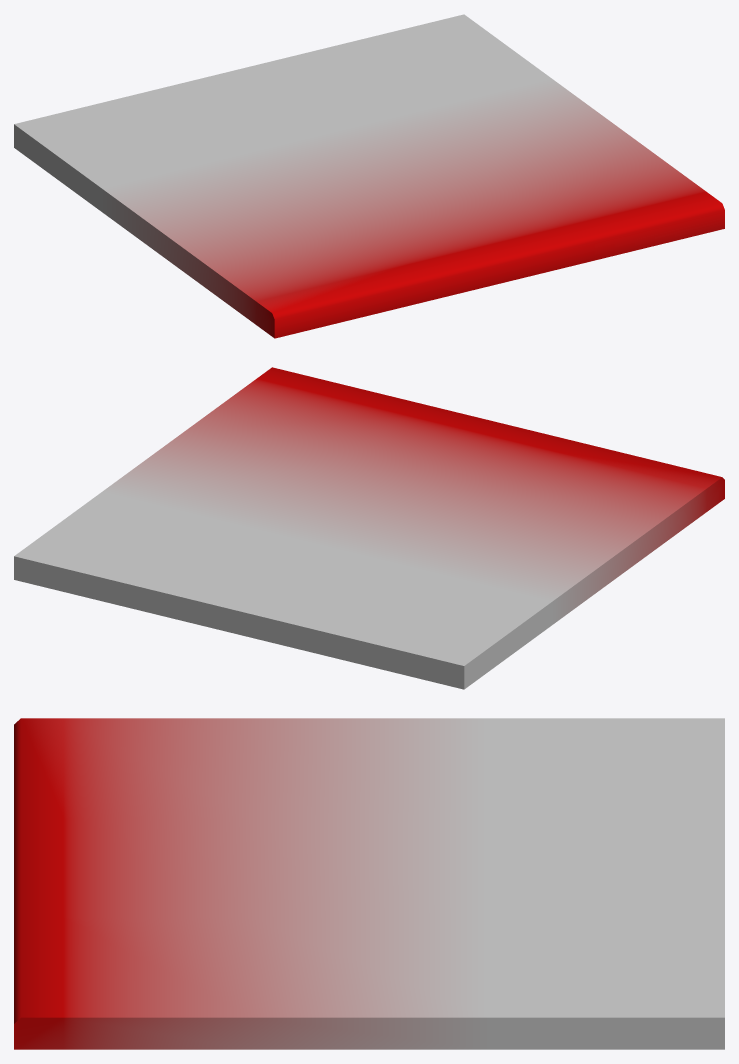
Rendered from Sidewalk_Straight_3m.gltf.
3 renders of one model, top to bottom at view 1: azimuth 30°, elevation 25°; view 2: azimuth 150°, elevation 25°; view 3: azimuth 270°, elevation 25°, orthographic. The views are drawn at different scales.
Visible parts, largest first — view 1: Sidewalk_Straight_3m; view 2: Sidewalk_Straight_3m; view 3: Sidewalk_Straight_3m.
Boxes of the visible parts, left/top/right/bottom form: Sidewalk_Straight_3m: left=14, top=14, right=724, bottom=338; Sidewalk_Straight_3m: left=14, top=367, right=724, bottom=689; Sidewalk_Straight_3m: left=14, top=718, right=724, bottom=1049.
Size of what is drawn, in the model's own units: 3 by 0.15 by 3.01.
